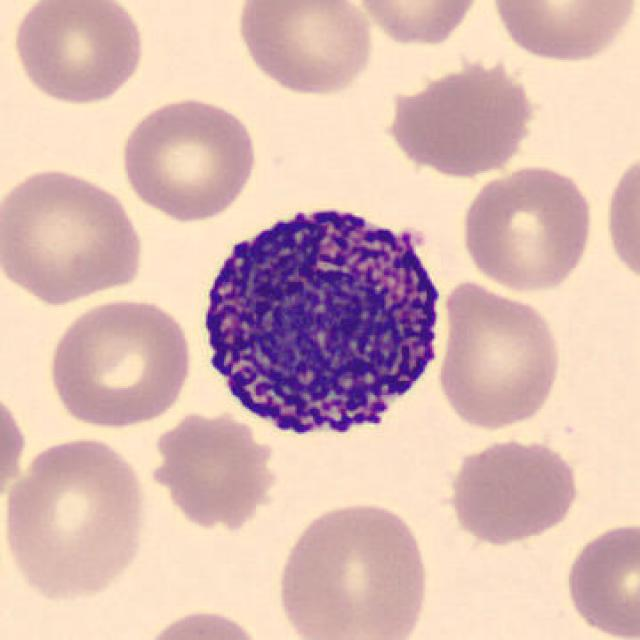Basophil: (189, 187, 455, 460)
RBC: (0, 432, 151, 606), (272, 495, 434, 640), (0, 162, 148, 307), (42, 294, 196, 430), (434, 277, 565, 434), (382, 53, 542, 180), (116, 92, 262, 224), (457, 162, 597, 294), (443, 434, 583, 546), (154, 407, 278, 532), (7, 0, 149, 108), (233, 0, 379, 99), (487, 0, 638, 65), (560, 518, 638, 640), (349, 0, 487, 48), (601, 144, 640, 291), (133, 604, 270, 640), (0, 382, 30, 518)
